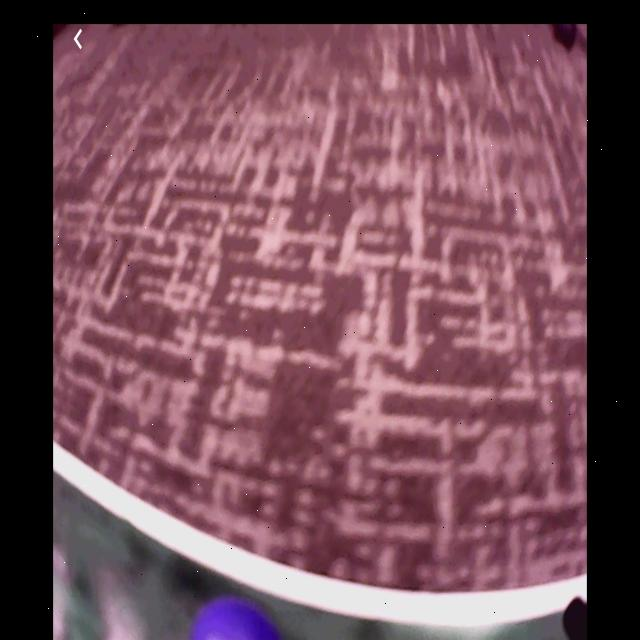ball: (191, 601, 285, 640)
